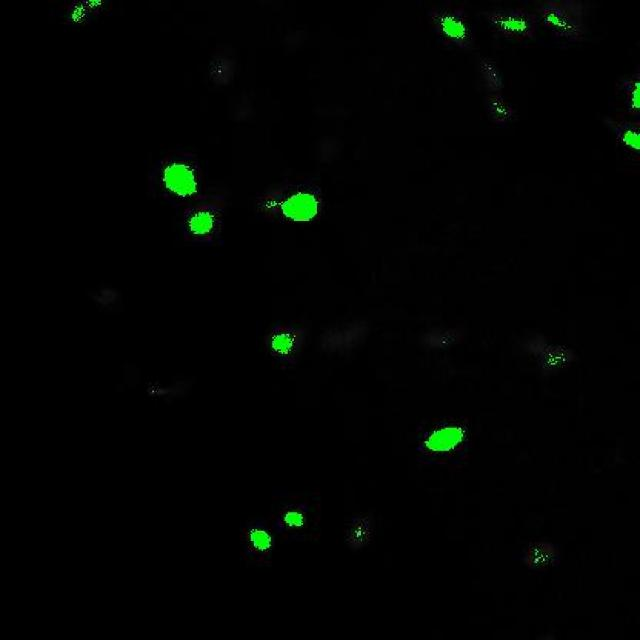Cell: (162, 161, 197, 201), (280, 195, 318, 221), (430, 426, 461, 451), (190, 212, 212, 235), (272, 334, 295, 354), (441, 19, 466, 37), (250, 530, 272, 550)
